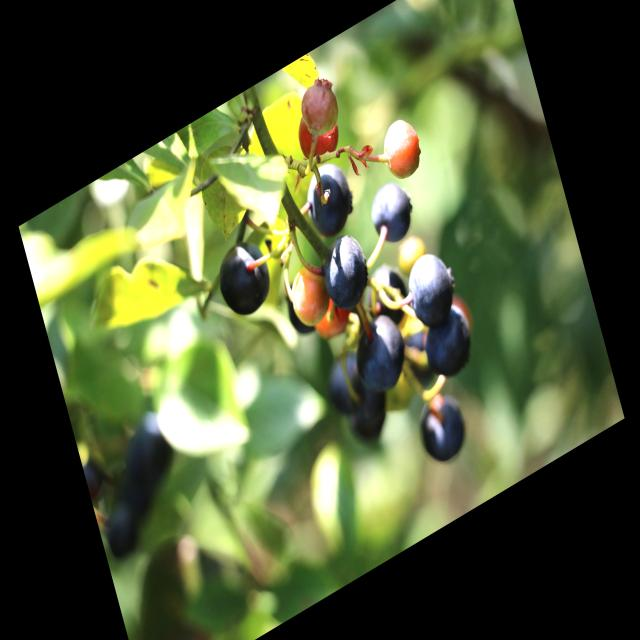blueberry: (296, 150, 362, 248), (415, 297, 481, 391), (314, 224, 378, 320), (213, 230, 277, 326), (411, 376, 474, 473), (348, 307, 412, 402), (397, 242, 461, 336), (357, 251, 412, 334), (320, 340, 370, 422), (364, 176, 416, 250)
blueberry-halfripe: (285, 261, 335, 342), (292, 100, 346, 173), (377, 111, 426, 186), (297, 74, 343, 137)
